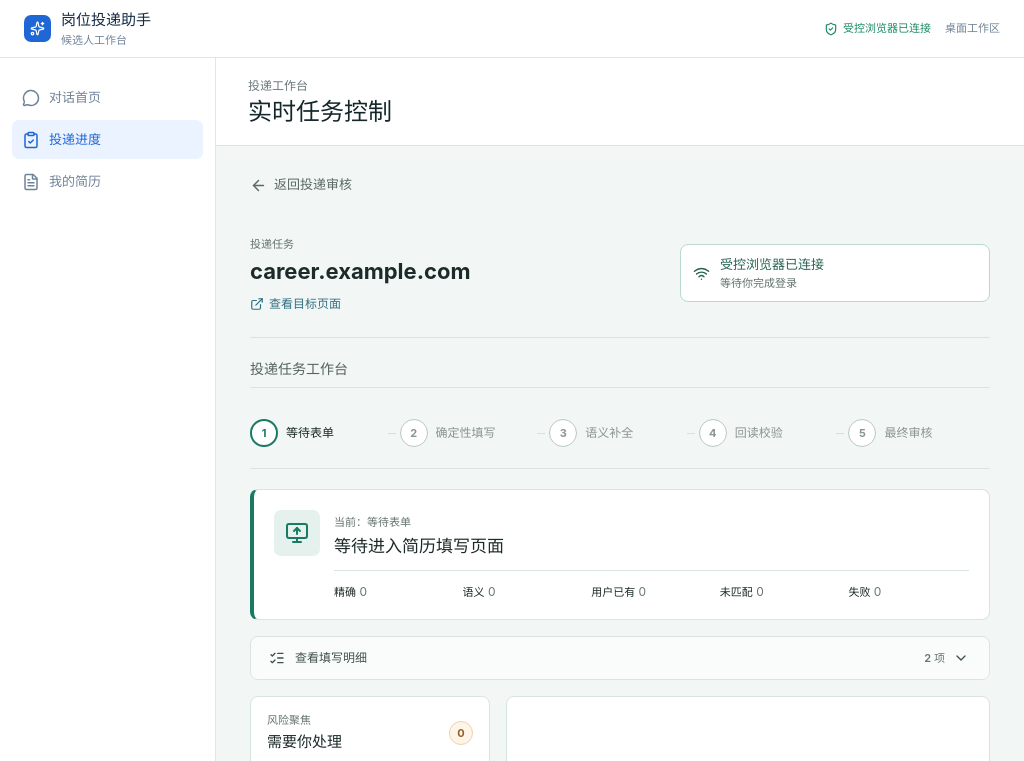
Scenario: ApplicationTaskPage › shows field coverage inside the task workspace
The image size is (1024, 761).
Click the text "查看填写明细". click: [331, 658]
box: [295,650,367,665]
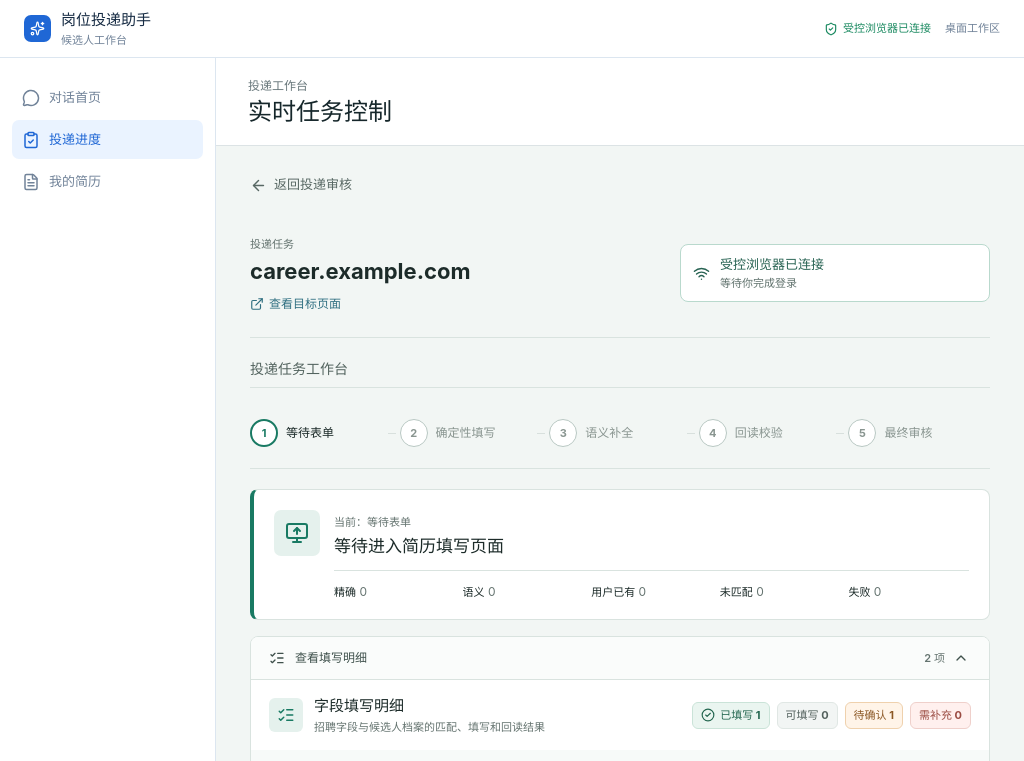
Expected: the heading "字段填写明细" is shown, [314,696,404,715]
Expected: the text "已填写 1" is shown, [692,702,770,729]
Expected: the text "待确认 1" is shown, [845,702,903,729]
